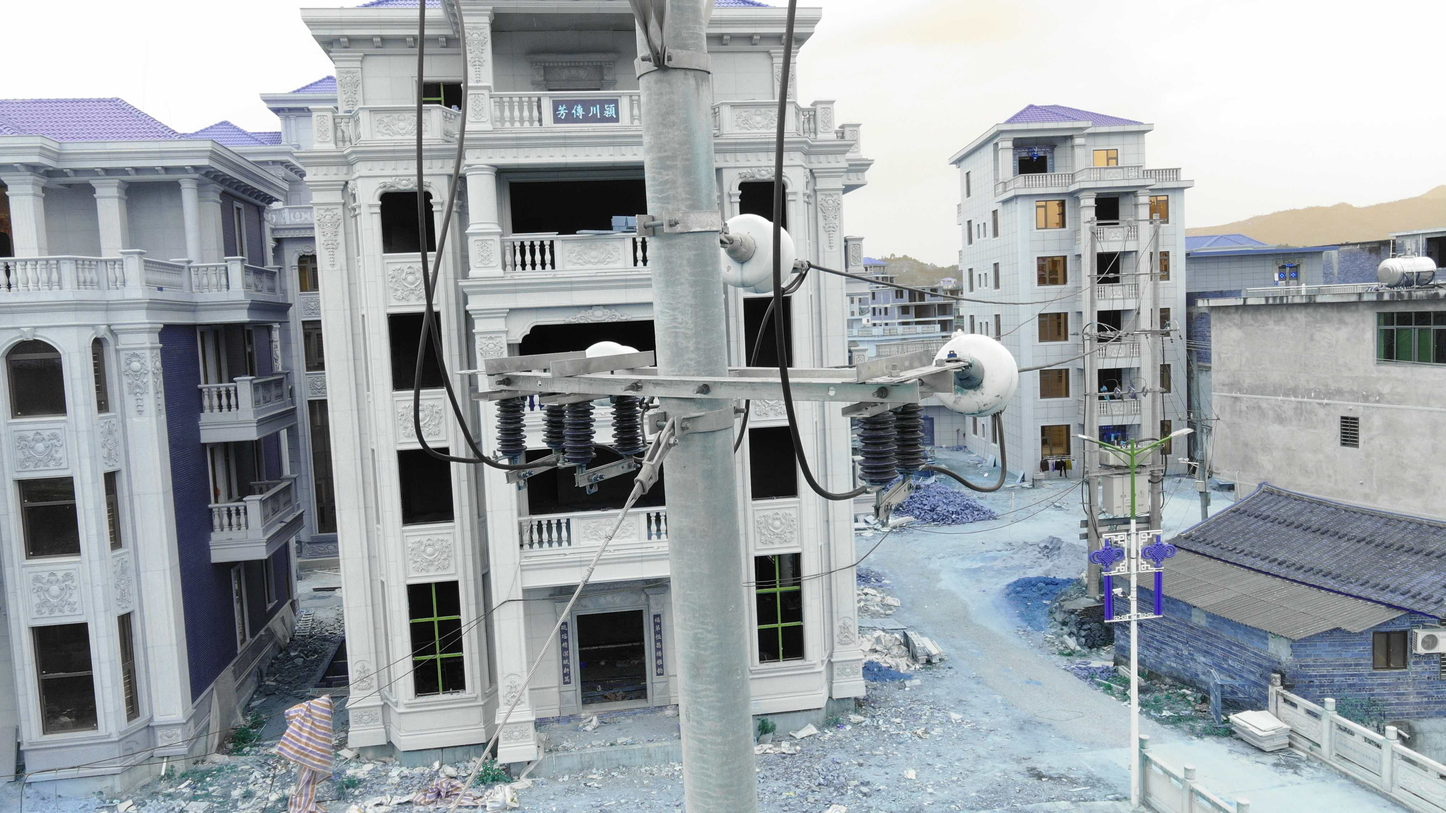severe_soiling_no_discharge_whole: (928, 331, 1021, 418)
